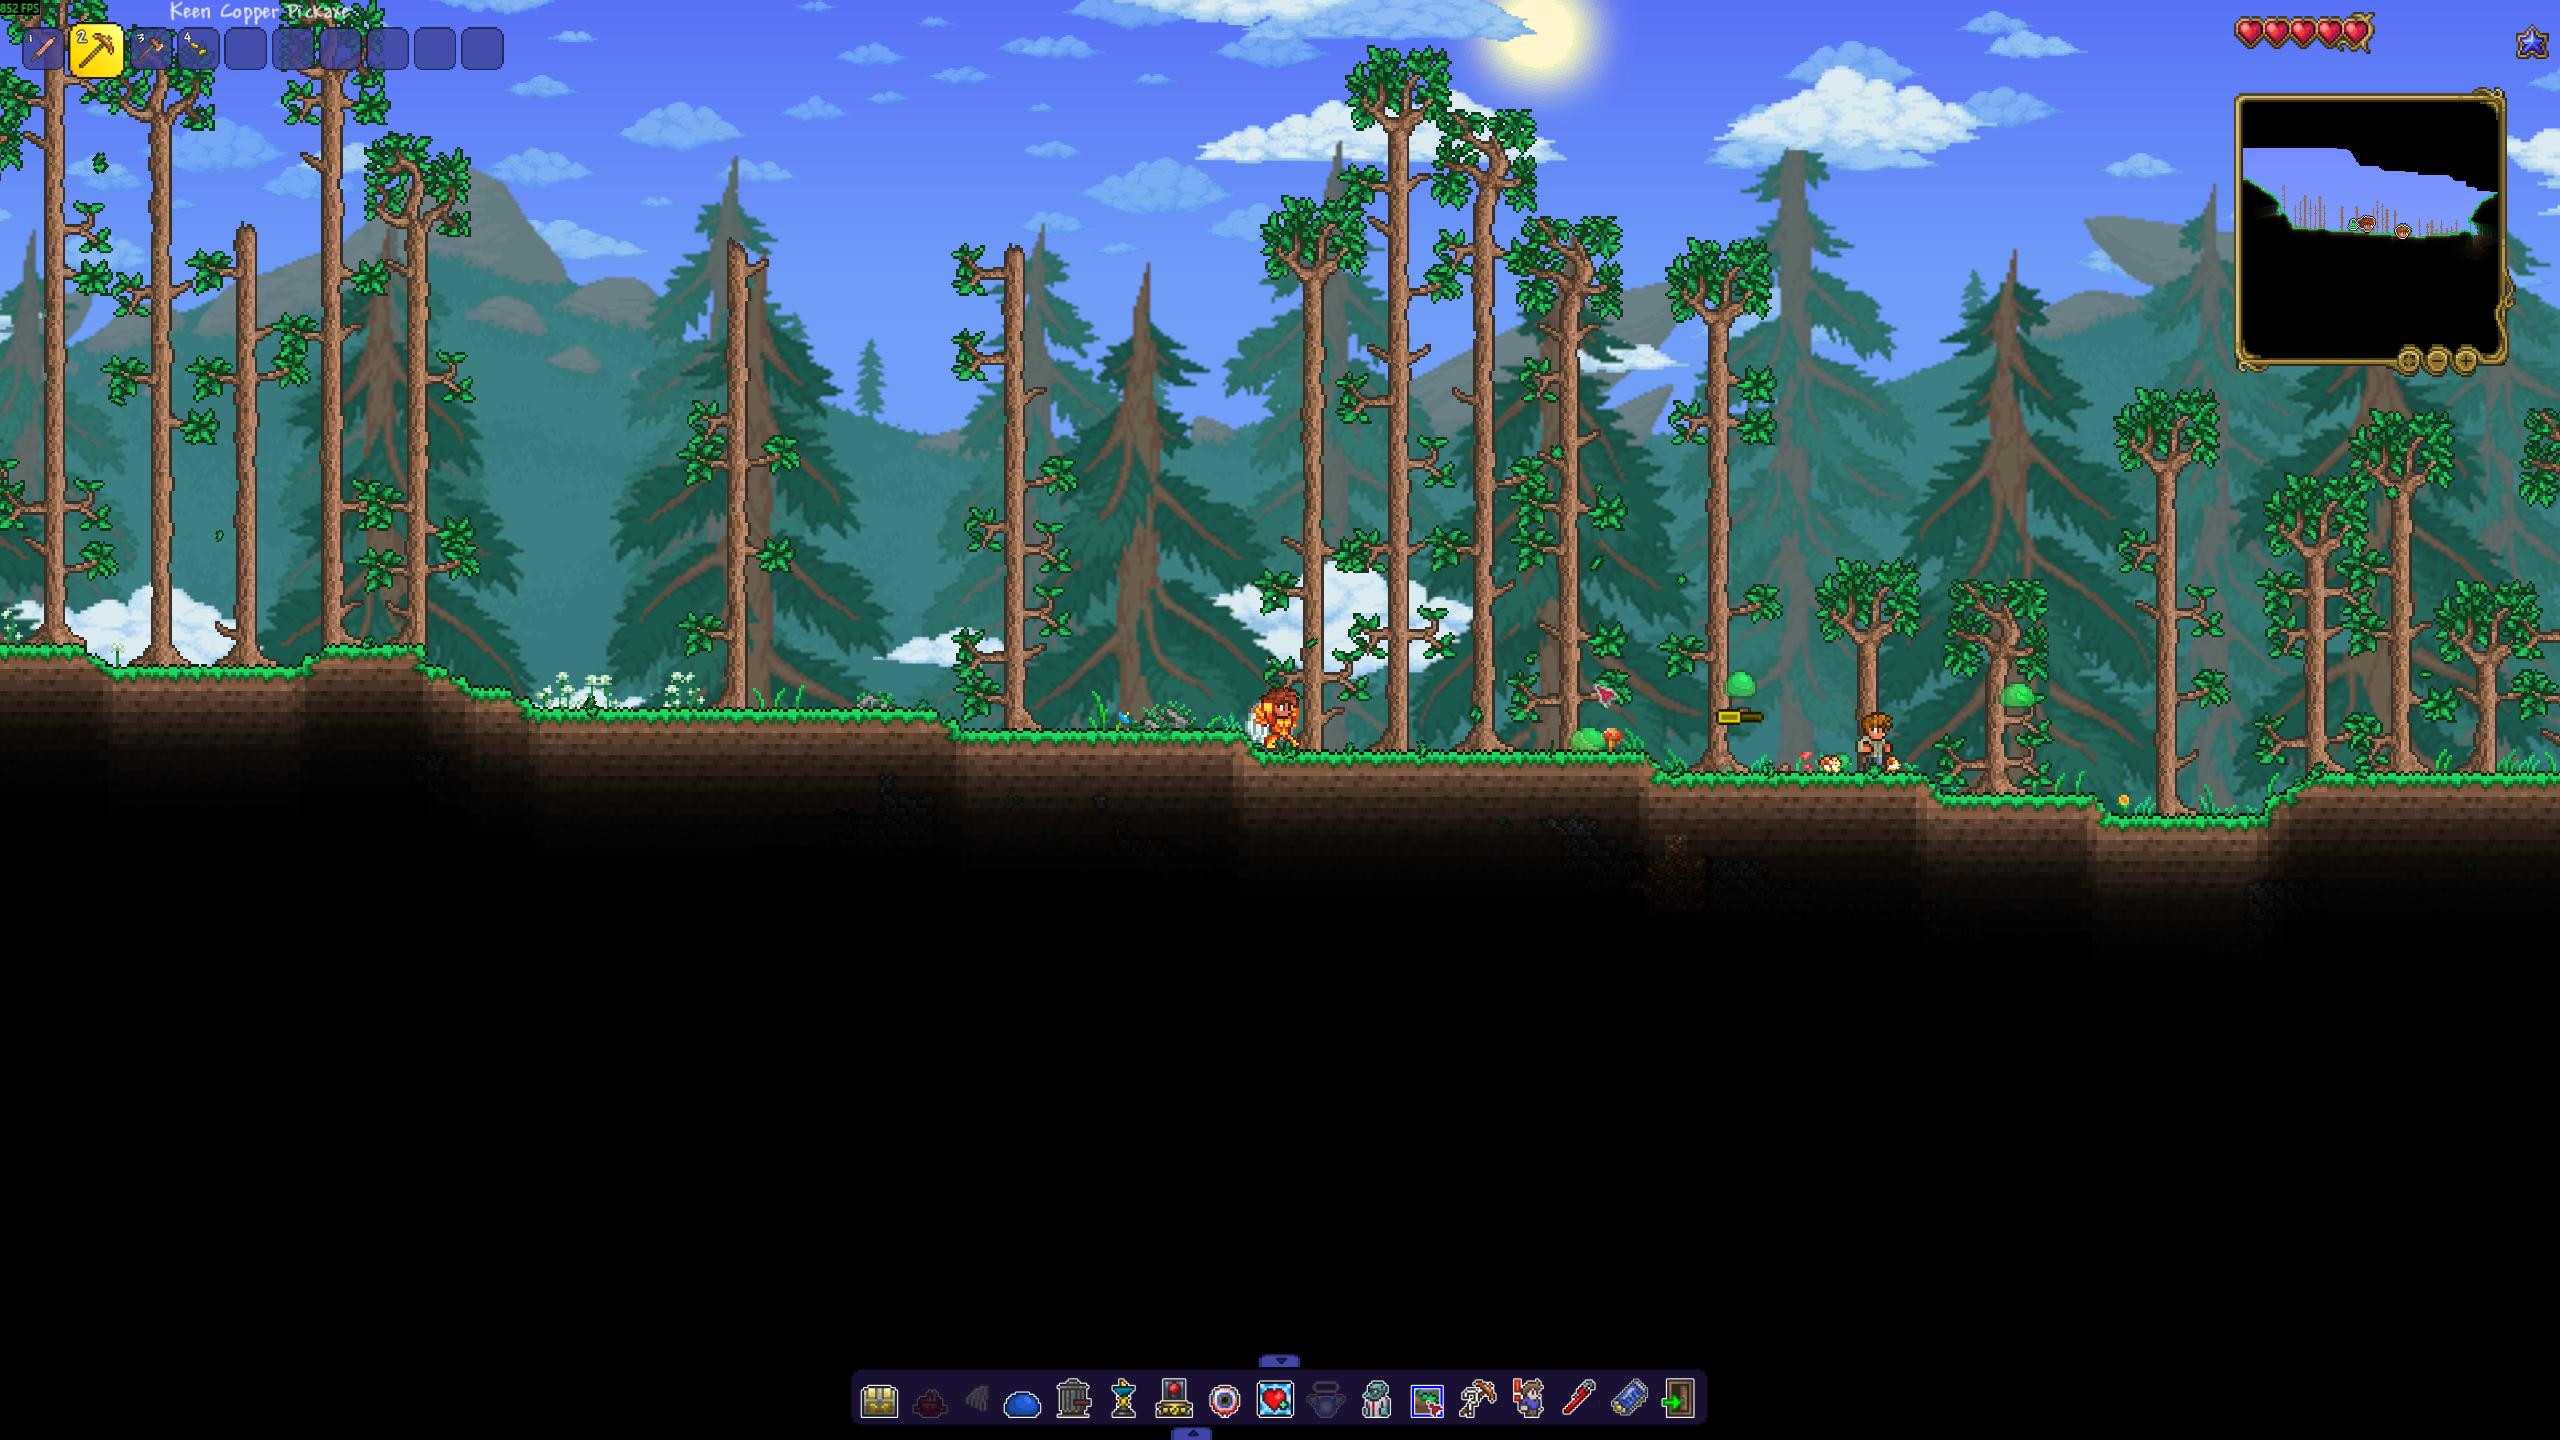Green Slime: (1996, 680, 2041, 709), (1718, 668, 1758, 700), (1565, 724, 1609, 753)
